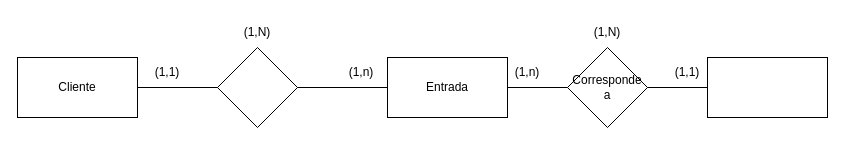
The diagram is 845 pixels wide and 145 high, and some of its shapes have lost their labels. The box of each missing label's shape, as (x1, y1, x2, y2) in pixels:
Compra: (216, 46, 298, 128)
Evento: (706, 56, 828, 118)
